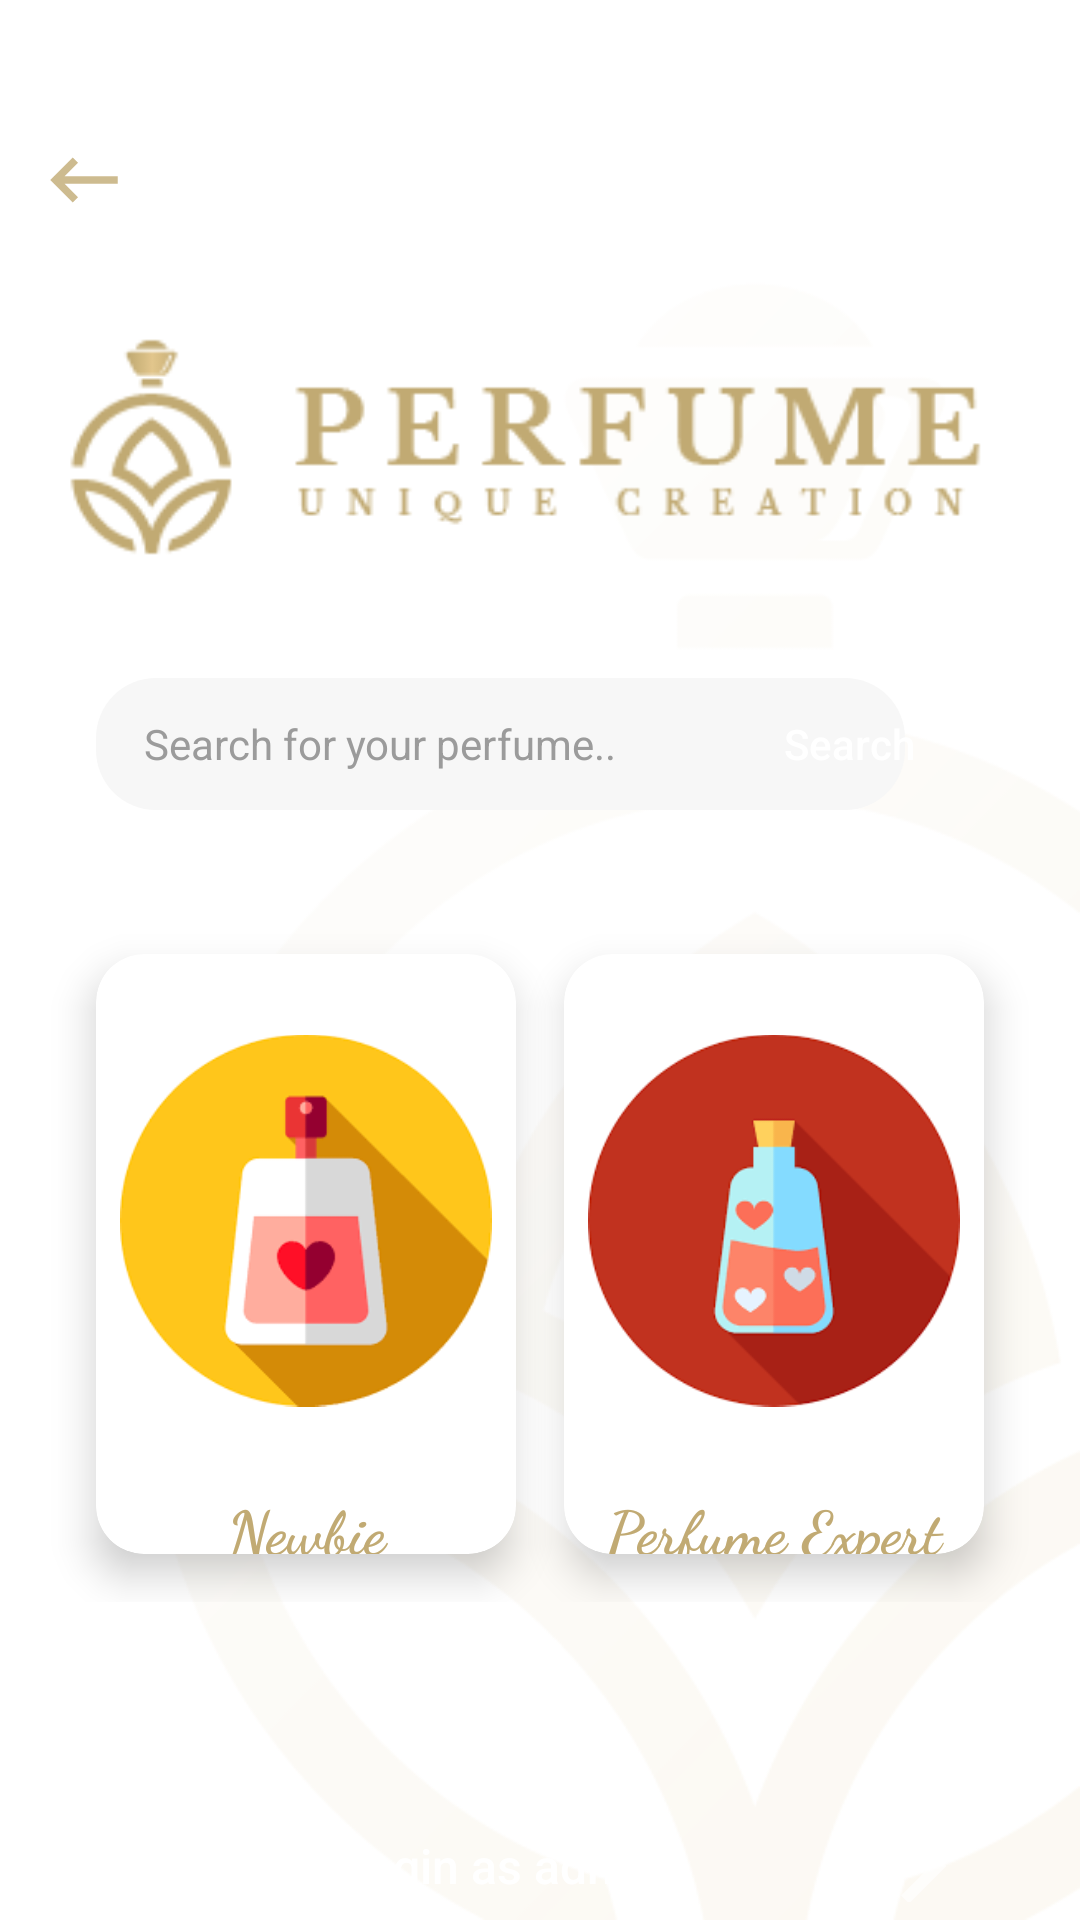

Named icons in this screenshot (1080px×1920px) and their centers, (x,y):
back: (84,179)
